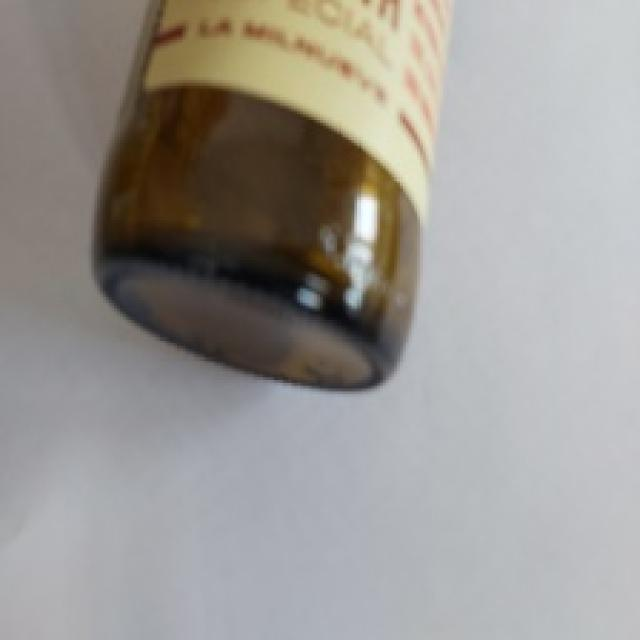Glass: (87, 0, 454, 393)
